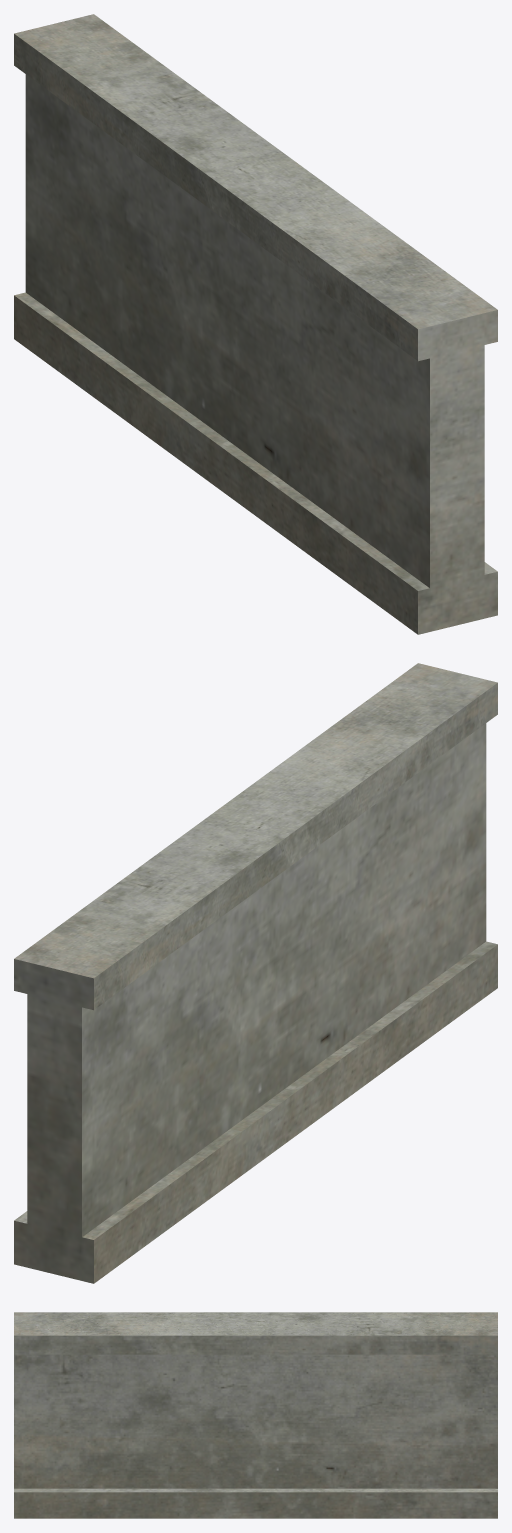
The model's file is wall.fbx.
The picture shows the model from 3 angles, top to bottom: view 1: azimuth 30°, elevation 25°; view 2: azimuth 150°, elevation 25°; view 3: azimuth 270°, elevation 25°; orthographic projection. The views are drawn at different scales.
Visible parts, largest first — view 1: Model; view 2: Model; view 3: Model.
Part boxes in pixels (x1=…): Model: x1=14, y1=14, x2=497, y2=634; Model: x1=14, y1=663, x2=497, y2=1283; Model: x1=14, y1=1312, x2=497, y2=1518.
Size of the model in its own units: 46.88 by 171 by 411.
